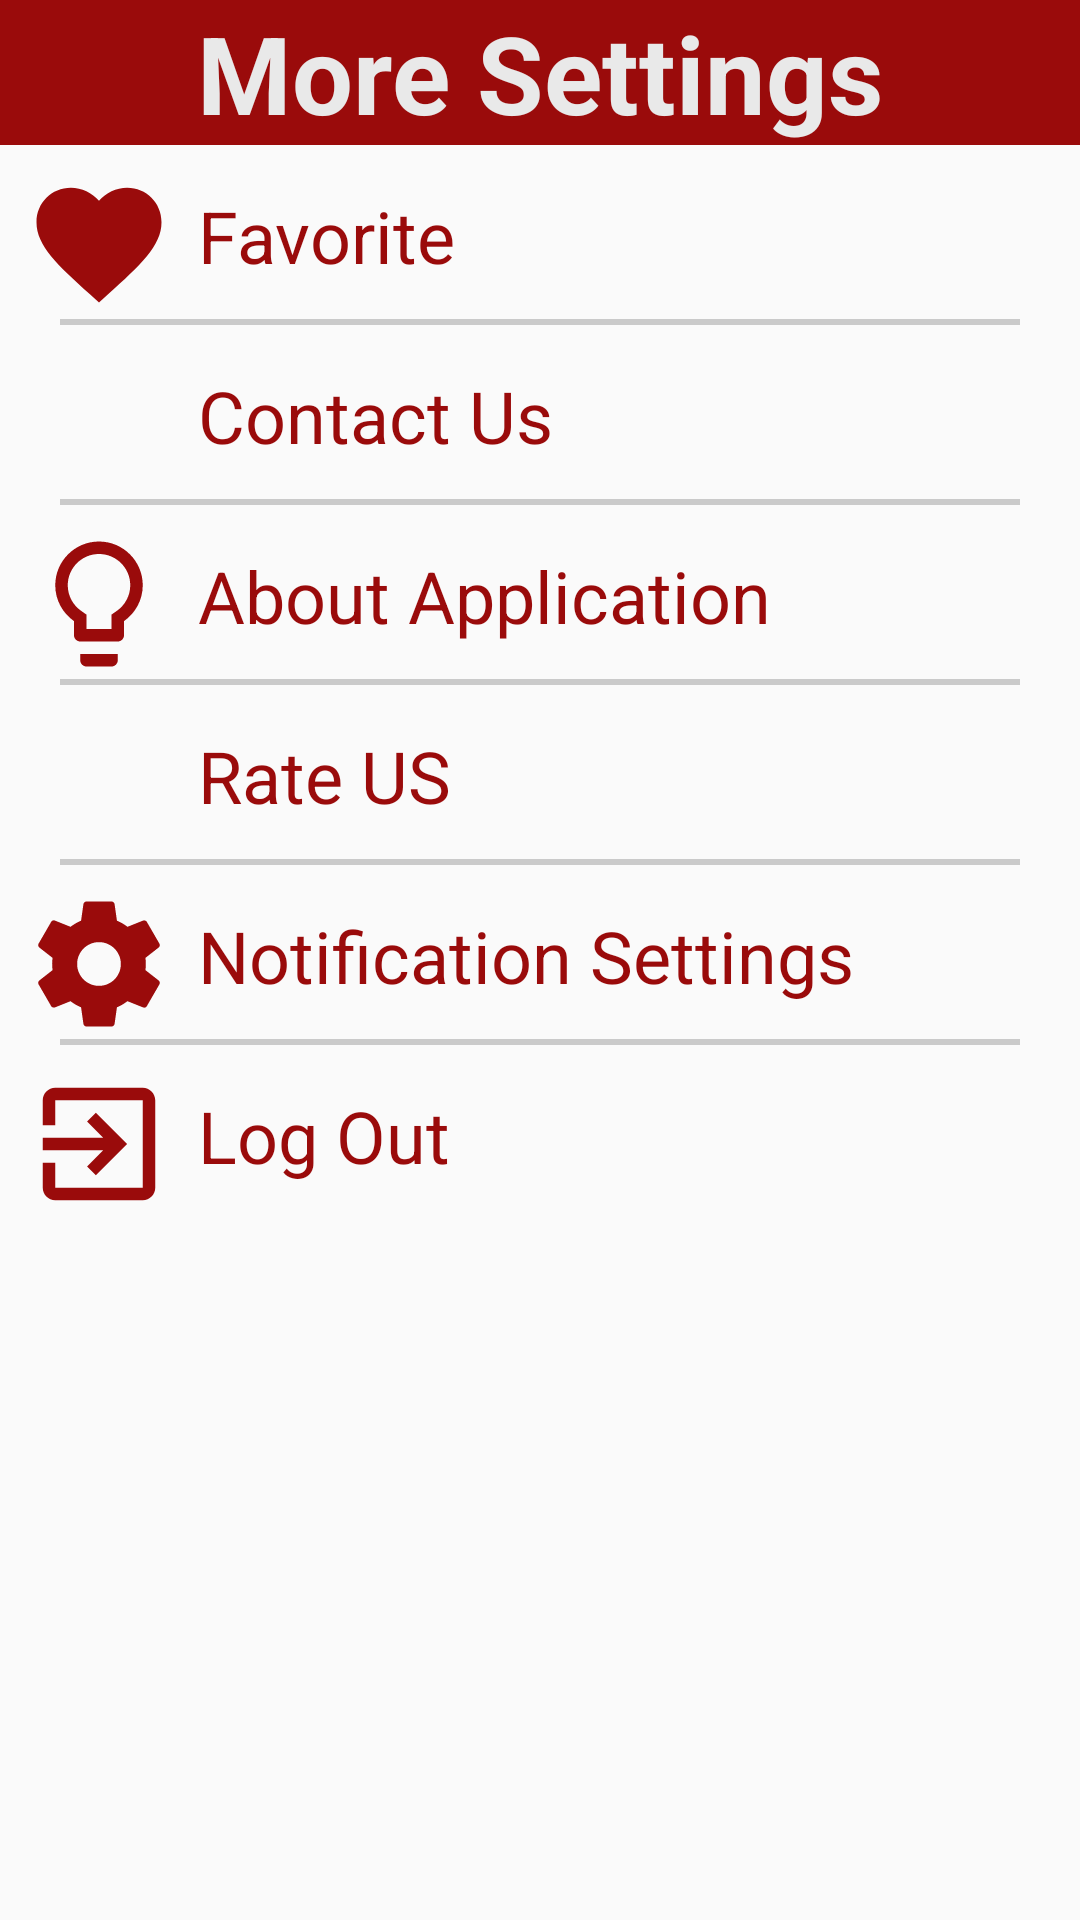

Screen size 1080 x 1920. Icon name, then its center in pixels as point (x, y):
exit to app: point (99, 1144)
fav: point (99, 245)
lightbulb: point (99, 604)
